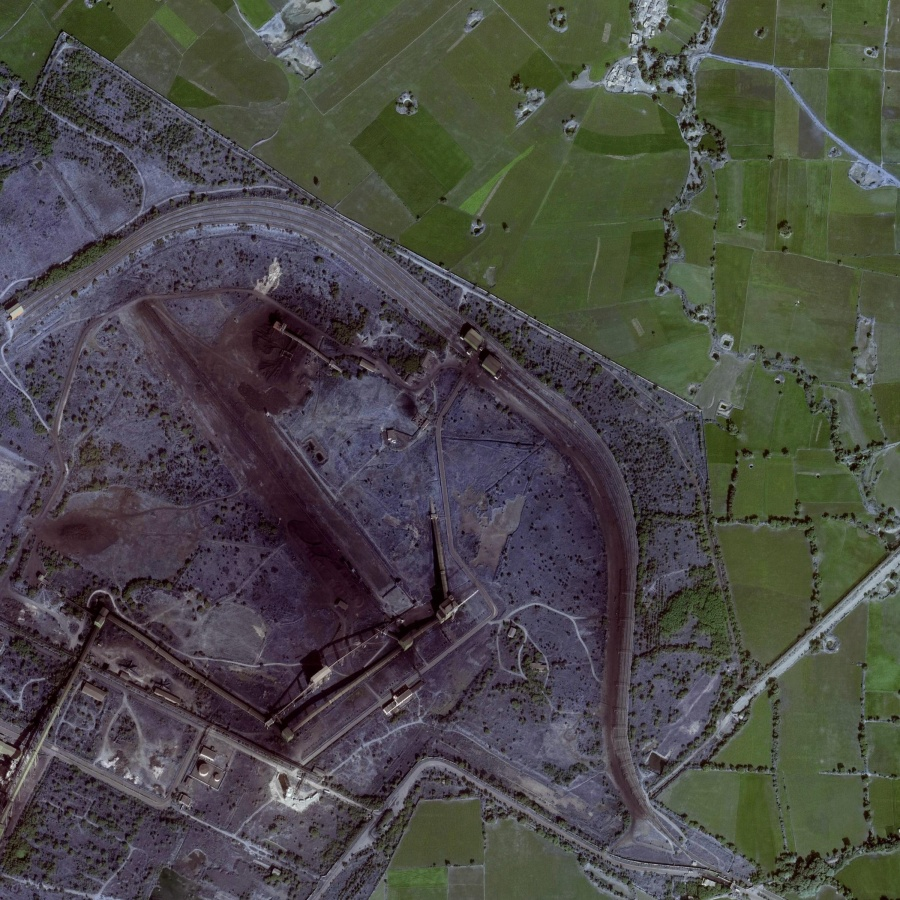PowerPlant: (95, 266, 421, 662)
